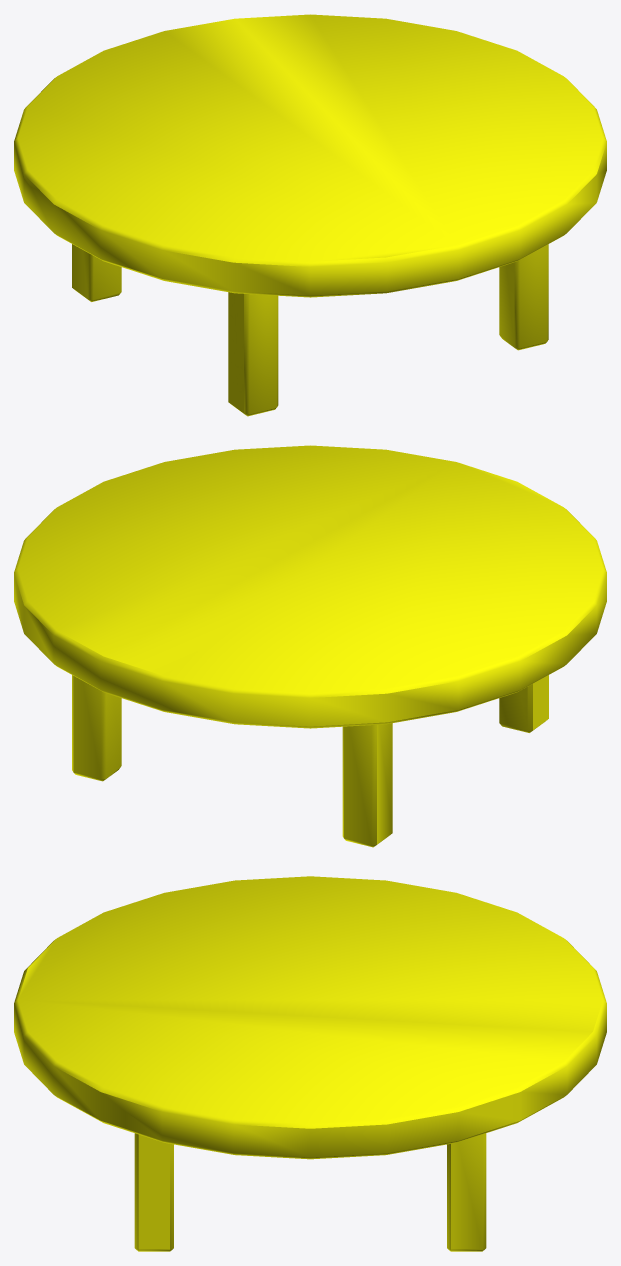
File: kaykit-table-round-b.glb
3 renders of one model, top to bottom at view 1: azimuth 30°, elevation 25°; view 2: azimuth 150°, elevation 25°; view 3: azimuth 270°, elevation 25°, orthographic.
Visible parts, largest first — view 1: table_round_B; view 2: table_round_B; view 3: table_round_B.
Part boxes in pixels (bbox=[...]): table_round_B: bbox=[14, 14, 606, 416]; table_round_B: bbox=[14, 445, 606, 847]; table_round_B: bbox=[14, 876, 606, 1251].
Bounding box in the file's own units: 3 × 0.9999 × 3.
